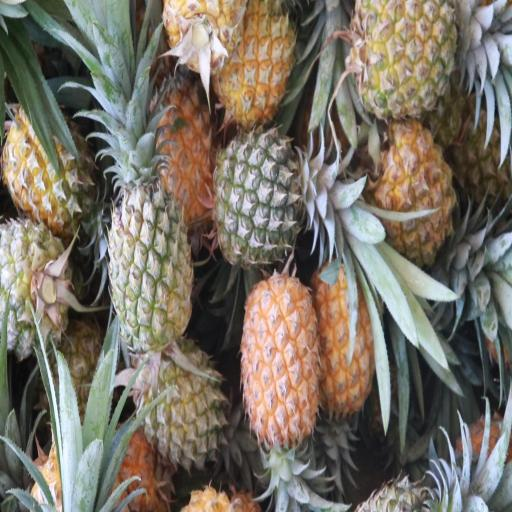------------------------------: (107, 146, 192, 344), (358, 0, 458, 116), (4, 104, 91, 228), (137, 347, 223, 462)
Pineapple - v8 v1: (240, 278, 318, 442), (376, 124, 456, 261), (316, 260, 381, 413), (151, 75, 219, 221), (218, 0, 300, 119)
